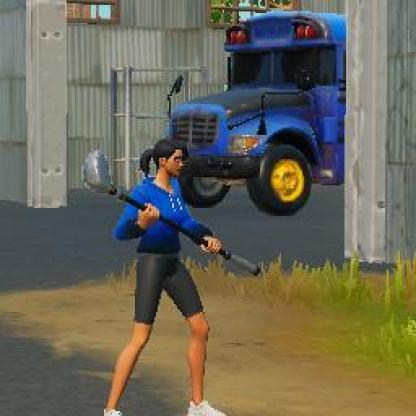dumpster: (102, 138, 230, 416)
